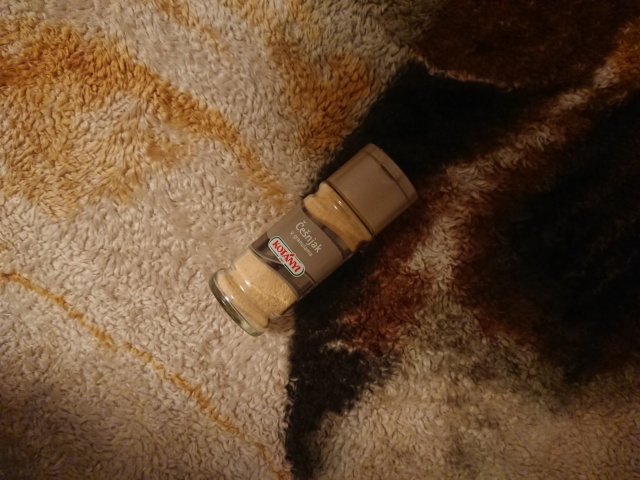Kotanyi Garlic Granules 70g: (205, 140, 422, 341)
